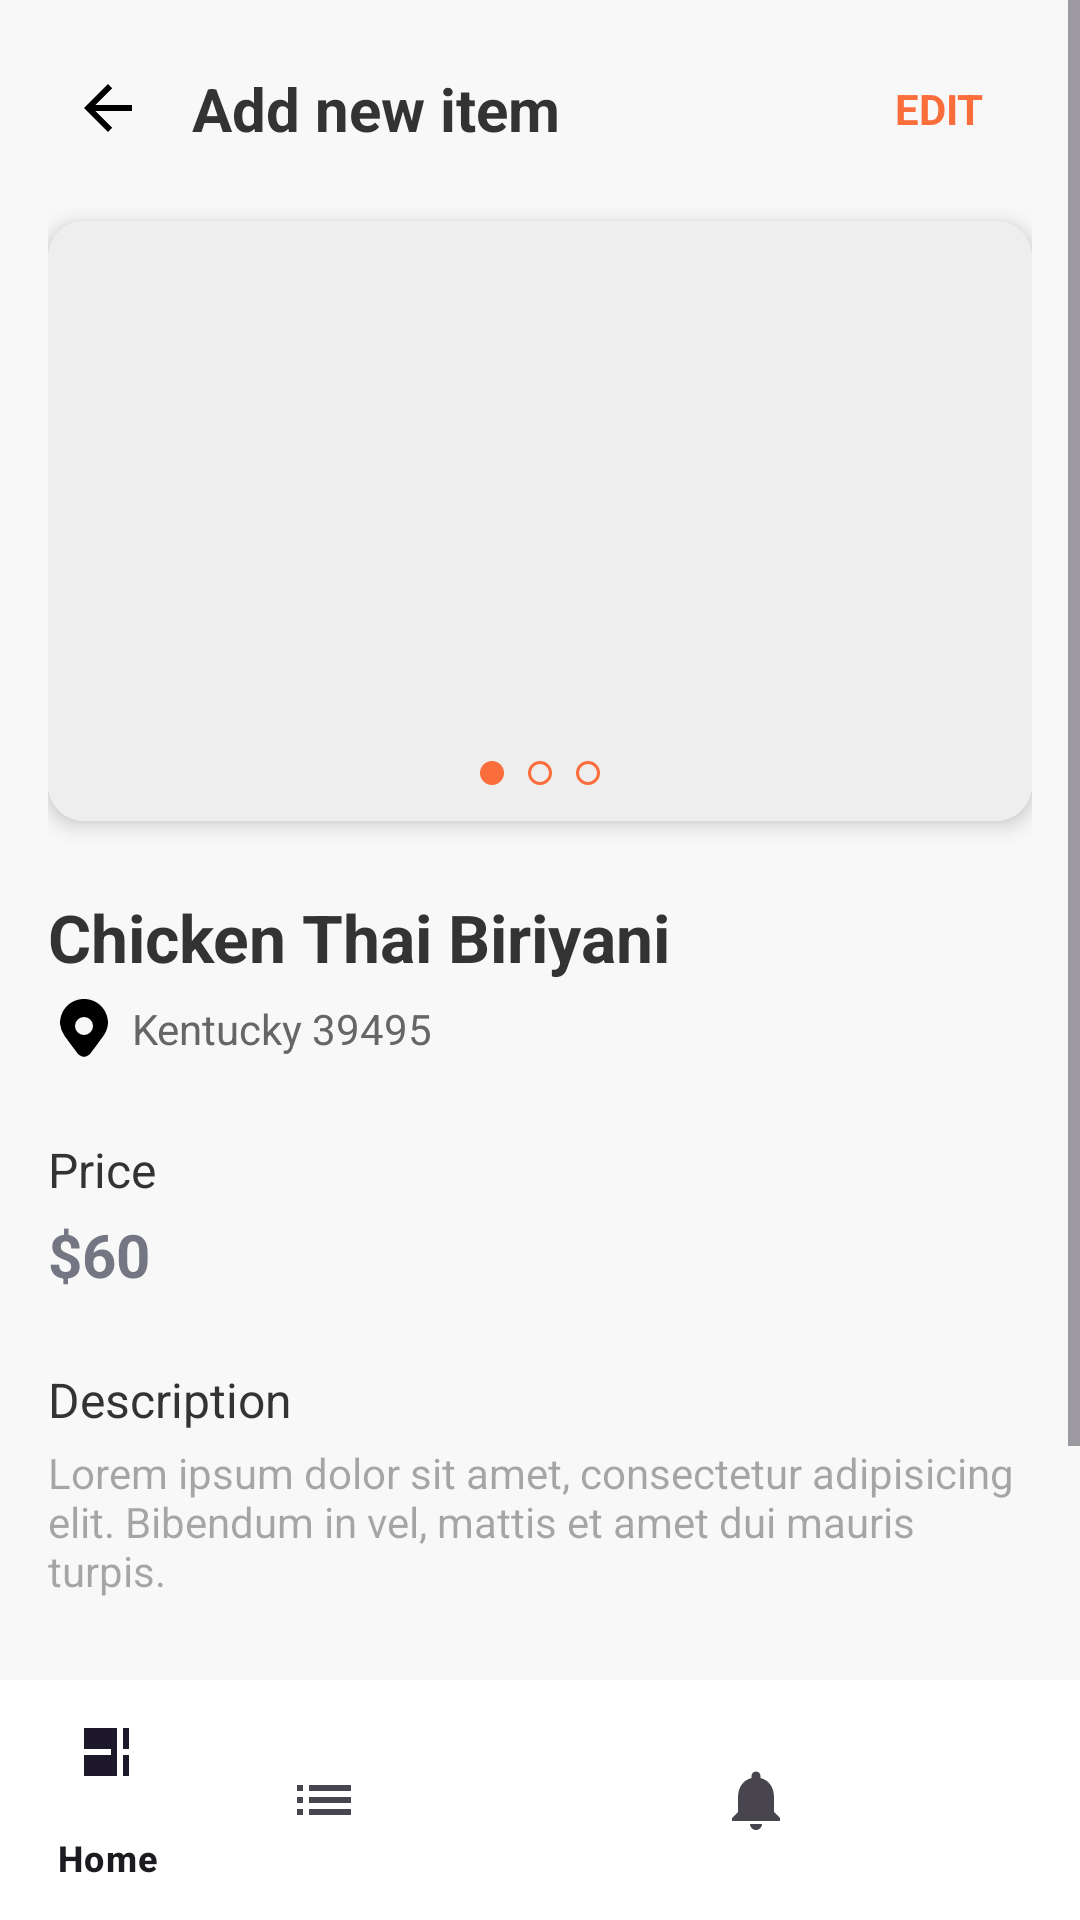

Where to tap for icons on this 1080x1920 app screen, as (x=x, y=y):
Back button: (x=108, y=108)
